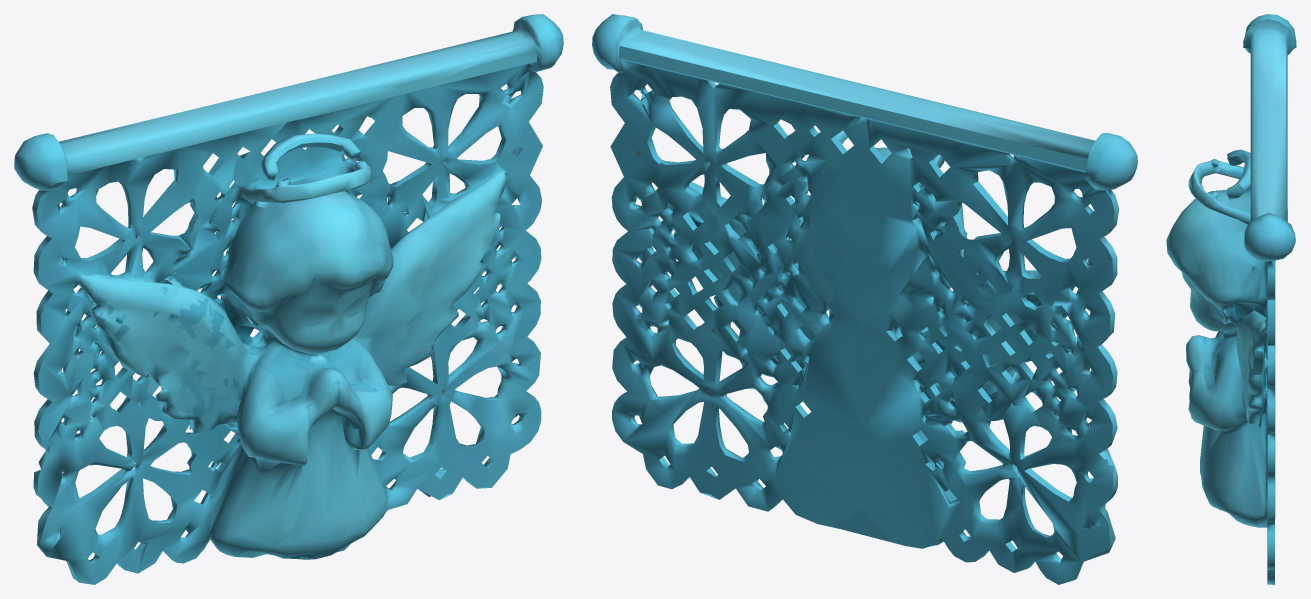
File: papel-picado-angel.glb
The picture shows the model from 3 angles, left to right: view 1: azimuth 30°, elevation 25°; view 2: azimuth 150°, elevation 25°; view 3: azimuth 270°, elevation 25°; orthographic projection. The views are drawn at different scales.
Parts seen in each view (by area): view 1: Mesh_0; view 2: Mesh_0; view 3: Mesh_0.
Part boxes in pixels (left/top/right/bottom): Mesh_0: left=14, top=14, right=563, bottom=584; Mesh_0: left=592, top=14, right=1137, bottom=584; Mesh_0: left=1166, top=14, right=1296, bottom=584.
Size of the model in its own units: 1.9 by 1.56 by 0.4744.
1 material, 1 textured.
